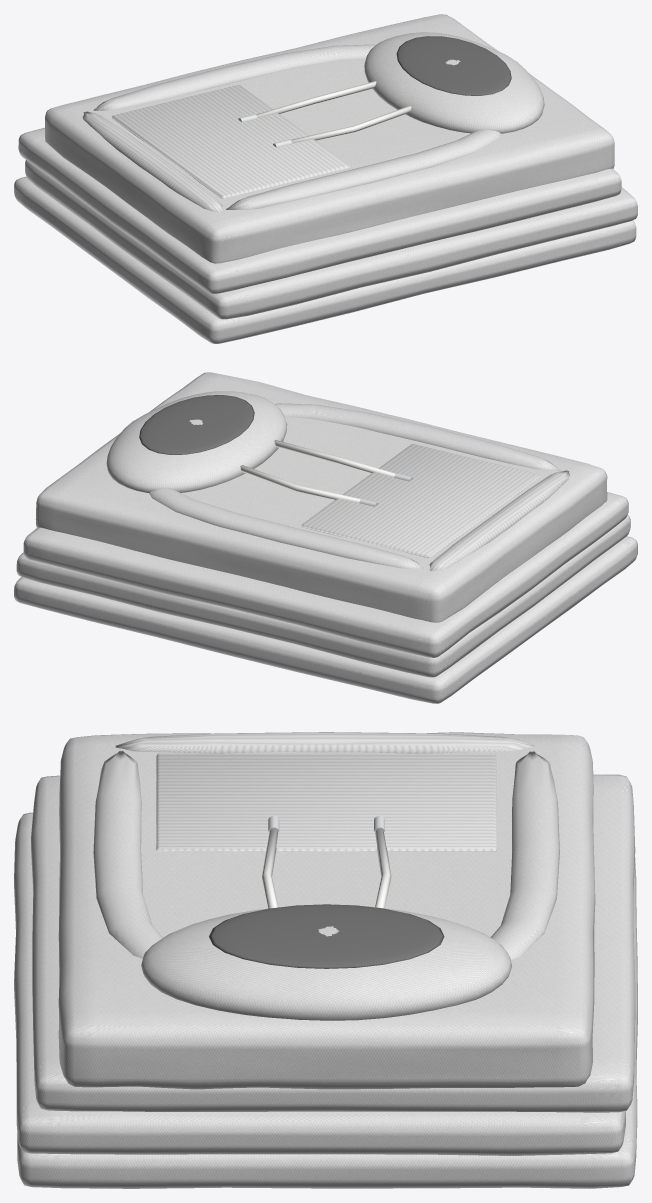
File: hoodie.glb
3 views of the same model, one above another, from view 1: azimuth 30°, elevation 25°; view 2: azimuth 150°, elevation 25°; view 3: azimuth 270°, elevation 25° (orthographic). The views are drawn at different scales.
Visible parts, largest first — view 1: hoodie_layer, hoodie_fold2, hoodie_fold1, hoodie_fold0, hoodie_pocket, hoodie_hood, hoodie_hood_in, hoodie_sleeve-1, hoodie_sleeve1, hoodie_hem, hoodie_string-1, hoodie_string1; view 2: hoodie_layer, hoodie_fold2, hoodie_fold0, hoodie_pocket, hoodie_fold1, hoodie_hood, hoodie_hood_in, hoodie_sleeve1, hoodie_sleeve-1, hoodie_hem, hoodie_string-1, hoodie_string1; view 3: hoodie_layer, hoodie_fold2, hoodie_pocket, hoodie_fold1, hoodie_fold0, hoodie_hood, hoodie_hood_in, hoodie_sleeve-1, hoodie_sleeve1, hoodie_hem, hoodie_string-1, hoodie_string1.
Part boxes in pixels (<box>): hoodie_layer: <box>45,14,614,263</box>; hoodie_fold2: <box>18,127,621,293</box>; hoodie_fold1: <box>25,160,637,319</box>; hoodie_fold0: <box>14,176,636,343</box>; hoodie_pocket: <box>112,85,349,198</box>; hoodie_hood: <box>364,32,544,133</box>; hoodie_hood_in: <box>396,36,511,95</box>; hoodie_sleeve-1: <box>226,129,500,210</box>; hoodie_sleeve1: <box>93,44,375,110</box>; hoodie_hem: <box>82,111,222,212</box>; hoodie_string-1: <box>291,105,411,143</box>; hoodie_string1: <box>256,81,376,117</box>; hoodie_layer: <box>35,372,607,622</box>; hoodie_fold2: <box>23,492,628,657</box>; hoodie_fold0: <box>14,536,637,703</box>; hoodie_pocket: <box>301,444,540,557</box>; hoodie_fold1: <box>16,515,630,677</box>; hoodie_hood: <box>106,391,287,492</box>; hoodie_hood_in: <box>139,395,254,454</box>; hoodie_sleeve1: <box>149,489,424,568</box>; hoodie_sleeve-1: <box>275,403,560,470</box>; hoodie_hem: <box>429,470,569,571</box>; hoodie_string-1: <box>274,440,395,477</box>; hoodie_string1: <box>240,465,360,502</box>; hoodie_layer: <box>58,732,595,1089</box>; hoodie_fold2: <box>31,774,635,1112</box>; hoodie_pocket: <box>156,753,497,851</box>; hoodie_fold1: <box>14,812,625,1155</box>; hoodie_fold0: <box>17,857,637,1188</box>; hoodie_hood: <box>141,905,511,1020</box>; hoodie_hood_in: <box>209,904,444,968</box>; hoodie_sleeve-1: <box>93,750,162,958</box>; hoodie_sleeve1: <box>490,751,559,959</box>; hoodie_hem: <box>115,732,535,753</box>; hoodie_string-1: <box>262,829,278,908</box>; hoodie_string1: <box>375,829,391,908</box>.
Size of the model in its own units: 33.18 by 9.7 by 27.17.
5 materials, 3 textured.
